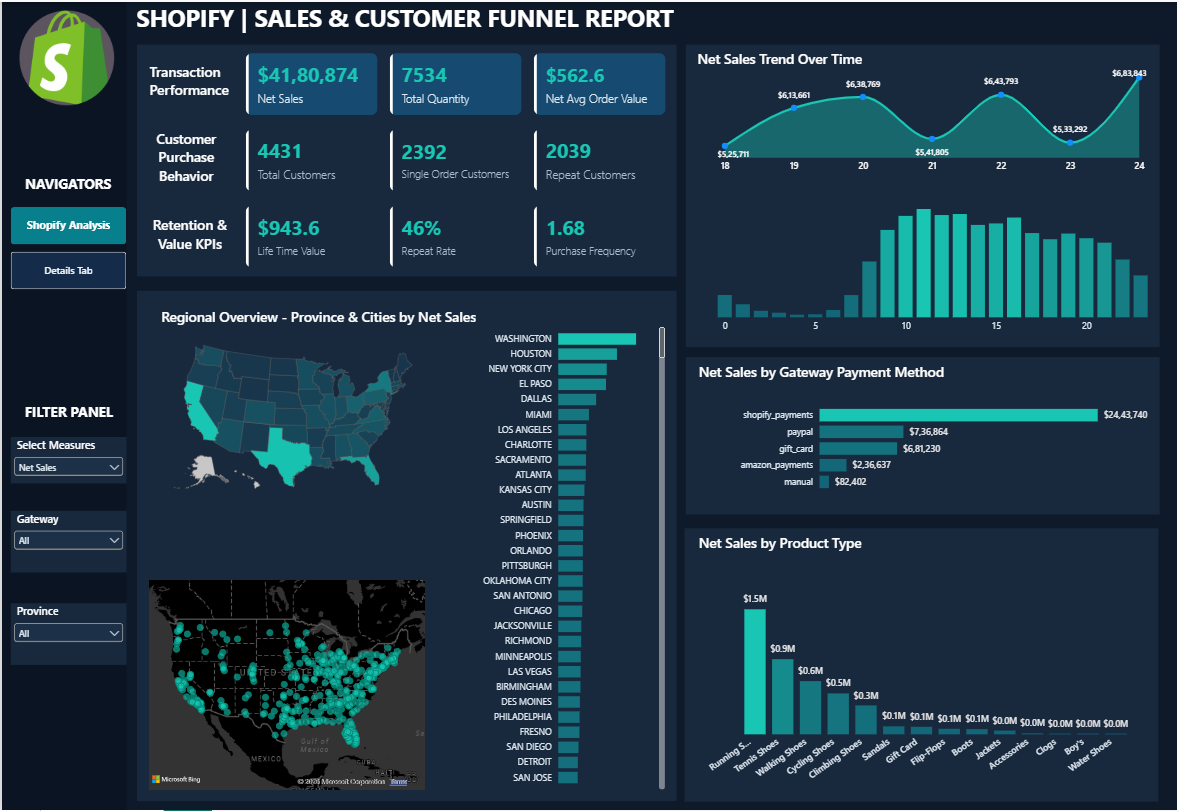

What the dashboard file says about the page in this screenshot:
{"tool":"powerbi","page":{"name":"Shopify Analysis","canvas":[1600,1100],"ordinal":0},"visuals":[{"type":"shape","box":[0,0,169.8,1099.5],"z":0},{"type":"textbox","box":[169.5,0,760,58.3],"z":1000},{"type":"shape","box":[183.5,58.3,734.1,315.6],"z":2000},{"type":"cardVisual","fields":{"Data":["shopify_sales.Net Sales","shopify_sales.Total Quantity","shopify_sales.Net Avg Order Value"]},"box":[331,70.3,572.9,84],"z":3000},{"type":"textbox","box":[200.7,82.3,116.6,61.7],"z":4000},{"type":"cardVisual","fields":{"Data":["shopify_sales.Total Customers","shopify_sales.Single Order Customers","shopify_sales.Repeat Customers"]},"box":[331,173.2,572.9,84],"z":5000},{"type":"textbox","box":[183.5,173.2,133.8,84],"z":6000},{"type":"cardVisual","fields":{"Data":["shopify_sales.Life Time Value","shopify_sales.Repeat Rate","shopify_sales.Purchase Frequency"]},"box":[331,277.9,572.9,84],"z":7000},{"type":"shape","box":[929.7,58.3,644.9,411.7],"z":8000},{"type":"textbox","box":[200.7,291.6,109.8,60],"z":9000},{"type":"shape","box":[183.5,392.8,734.1,694.7],"z":10000},{"type":"shapeMap","fields":{"Category":["shopify_sales.Billing Address Province"],"Value":["shopify_sales.Net Sales"]},"box":[200.7,408.2,391.1,313.9],"z":11000},{"type":"slicer","fields":{"Values":["Select Measures.Select Measures"]},"box":[12,591.8,157.8,63.5],"z":12000},{"type":"map","fields":{"Category":["shopify_sales.Location"]},"box":[183.5,771.9,408.2,315.6],"z":13000},{"type":"clusteredBarChart","fields":{"Category":["shopify_sales.CITY"],"Y":["shopify_sales.Net Sales"]},"box":[574.6,420.2,343.1,667.2],"z":14000},{"type":"cardVisual","fields":{"Data":["shopify_sales.Map Title"]},"box":[200.7,408.2,540.3,39.5],"z":15000},{"type":"areaChart","fields":{"Category":["shopify_sales.Invoice Date.Variation.Date Hierarchy.Day"],"Y":["shopify_sales.Net Sales"]},"box":[957.1,70.3,615.8,181.8],"z":16000},{"type":"columnChart","fields":{"Category":["shopify_sales.Hour"],"Y":["shopify_sales.Net Sales"]},"box":[957.1,243.6,617.5,226.4],"z":17000},{"type":"cardVisual","fields":{"Data":["shopify_sales.Trend Title"]},"box":[929.7,58.3,334.5,39.5],"z":18000},{"type":"shape","box":[929.7,483.7,644.9,214.4],"z":19000},{"type":"clusteredBarChart","fields":{"Category":["shopify_sales.Gateway"],"Y":["shopify_sales.Net Sales"]},"box":[981.1,521.4,593.5,164.7],"z":20000},{"type":"cardVisual","fields":{"Data":["shopify_sales.Gateway Title"]},"box":[931.4,483.7,502.6,39.5],"z":21000},{"type":"shape","box":[928,715.3,644.9,372.2],"z":22000},{"type":"columnChart","fields":{"Category":["shopify_sales.Product Type"],"Y":["shopify_sales.Net Sales"]},"box":[943.4,741,617.5,346.5],"z":23000},{"type":"cardVisual","fields":{"Data":["shopify_sales.Product Title"]},"box":[931.4,715.3,420.2,39.5],"z":24000},{"type":"image","box":[24,8.6,128.6,135.5],"z":25000},{"type":"slicer","fields":{"Values":["shopify_sales.Gateway"]},"box":[12,693,157.8,84],"z":26000},{"type":"slicer","fields":{"Values":["shopify_sales.Billing Address Province"]},"box":[12,818.2,157.8,84],"z":27000},{"type":"pageNavigator","box":[12,279.6,157.8,113.2],"z":27001},{"type":"textbox","box":[10.3,235,159.5,44.6],"z":27002},{"type":"textbox","box":[12,543.7,157.8,44.6],"z":27003}]}

Visuals, with their boxes in screenshot pixels (x1, y1, x2, y2), scaled from the page's 1600x1100 canvas onto the 1177x811 screenshot:
shape: <box>0,0,125,810</box>
textbox: <box>125,0,684,43</box>
shape: <box>135,43,675,276</box>
cardVisual - shopify_sales.Net Sales x shopify_sales.Total Quantity: <box>243,52,665,114</box>
textbox: <box>148,61,233,106</box>
cardVisual - shopify_sales.Total Customers x shopify_sales.Single Order Customers: <box>243,128,665,190</box>
textbox: <box>135,128,233,190</box>
cardVisual - shopify_sales.Life Time Value x shopify_sales.Repeat Rate: <box>243,205,665,267</box>
shape: <box>684,43,1158,347</box>
textbox: <box>148,215,228,259</box>
shape: <box>135,290,675,802</box>
shapeMap - shopify_sales.Billing Address Province x shopify_sales.Net Sales: <box>148,301,435,532</box>
slicer - Select Measures.Select Measures: <box>9,436,125,483</box>
map - shopify_sales.Location: <box>135,569,435,802</box>
clusteredBarChart - shopify_sales.CITY x shopify_sales.Net Sales: <box>423,310,675,802</box>
cardVisual - shopify_sales.Map Title: <box>148,301,545,330</box>
areaChart - shopify_sales.Invoice Date.Variation.Date Hierarchy.Day x shopify_sales.Net Sales: <box>704,52,1157,186</box>
columnChart - shopify_sales.Hour x shopify_sales.Net Sales: <box>704,180,1158,347</box>
cardVisual - shopify_sales.Trend Title: <box>684,43,930,72</box>
shape: <box>684,357,1158,515</box>
clusteredBarChart - shopify_sales.Gateway x shopify_sales.Net Sales: <box>722,384,1158,506</box>
cardVisual - shopify_sales.Gateway Title: <box>685,357,1055,386</box>
shape: <box>683,527,1157,802</box>
columnChart - shopify_sales.Product Type x shopify_sales.Net Sales: <box>694,546,1148,802</box>
cardVisual - shopify_sales.Product Title: <box>685,527,994,556</box>
image: <box>18,6,112,106</box>
slicer - shopify_sales.Gateway: <box>9,511,125,573</box>
slicer - shopify_sales.Billing Address Province: <box>9,603,125,665</box>
pageNavigator: <box>9,206,125,290</box>
textbox: <box>8,173,125,206</box>
textbox: <box>9,401,125,434</box>
